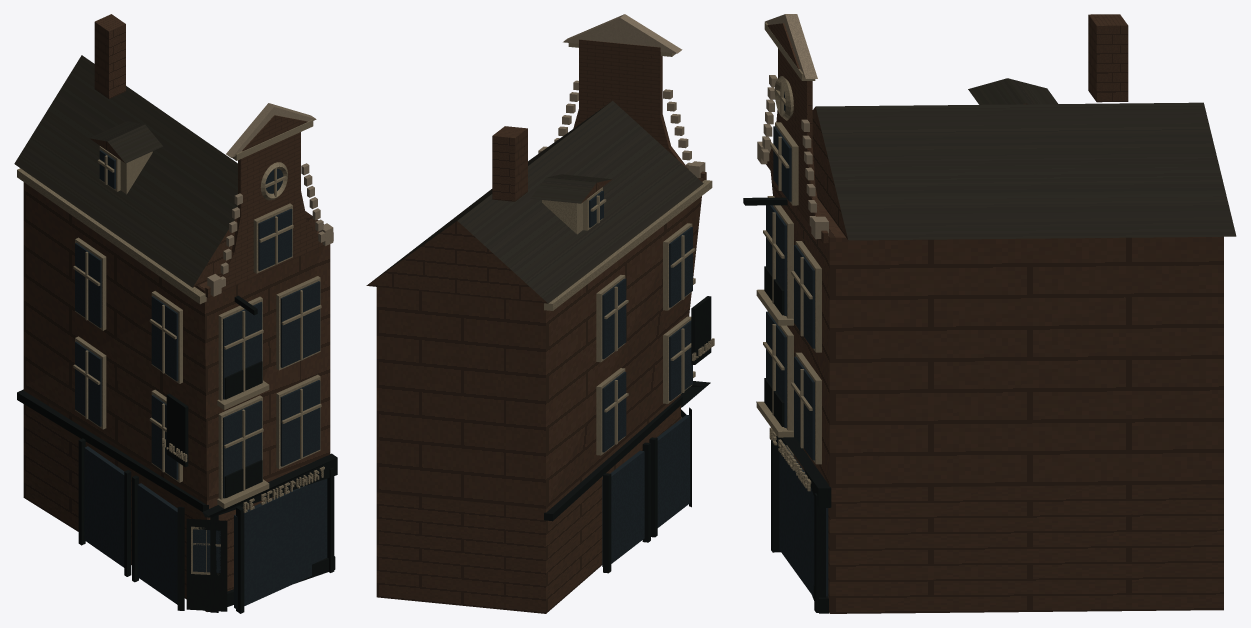
The picture shows the model from 3 angles, left to right: view 1: azimuth 30°, elevation 25°; view 2: azimuth 150°, elevation 25°; view 3: azimuth 270°, elevation 25°; orthographic projection. The views are drawn at different scales.
Visible parts, largest first — view 1: cafe-de-scheepvaart-0, cafe-de-scheepvaart-5, cafe-de-scheepvaart-1, cafe-de-scheepvaart-2, cafe-de-scheepvaart-4, cafe-de-scheepvaart-3; view 2: cafe-de-scheepvaart-0, cafe-de-scheepvaart-1, cafe-de-scheepvaart-5, cafe-de-scheepvaart-2, cafe-de-scheepvaart-4, cafe-de-scheepvaart-3; view 3: cafe-de-scheepvaart-0, cafe-de-scheepvaart-1, cafe-de-scheepvaart-5, cafe-de-scheepvaart-2, cafe-de-scheepvaart-4, cafe-de-scheepvaart-3.
Boxes of the visible parts, box(x1,y1,x2,y2) form: cafe-de-scheepvaart-0: box(23, 14, 333, 611); cafe-de-scheepvaart-5: box(75, 150, 327, 609); cafe-de-scheepvaart-1: box(14, 55, 237, 287); cafe-de-scheepvaart-2: box(17, 119, 324, 574); cafe-de-scheepvaart-4: box(17, 295, 337, 613); cafe-de-scheepvaart-3: box(207, 103, 333, 296); cafe-de-scheepvaart-0: box(366, 39, 706, 613); cafe-de-scheepvaart-1: box(368, 101, 703, 303); cafe-de-scheepvaart-5: box(589, 191, 692, 566); cafe-de-scheepvaart-2: box(542, 43, 714, 455); cafe-de-scheepvaart-4: box(544, 296, 711, 573); cafe-de-scheepvaart-3: box(538, 14, 705, 177); cafe-de-scheepvaart-0: box(766, 14, 1223, 613); cafe-de-scheepvaart-1: box(815, 78, 1236, 240); cafe-de-scheepvaart-5: box(766, 92, 828, 596); cafe-de-scheepvaart-2: box(756, 22, 821, 491); cafe-de-scheepvaart-4: box(743, 197, 831, 613); cafe-de-scheepvaart-3: box(757, 14, 828, 239).
Size of the model in its own units: 5.81 by 15.72 by 12.59.
6 materials, 6 textured.
